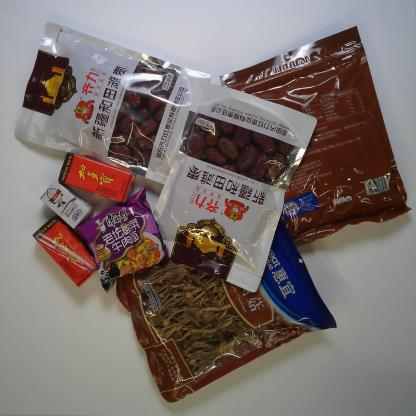Dried Food: (218, 24, 414, 257), (112, 208, 340, 408), (143, 81, 318, 296), (11, 17, 214, 188)
Drink: (31, 214, 103, 288), (56, 151, 138, 204)
Instant Noodles: (72, 185, 171, 293)
Milk: (38, 178, 94, 232)
